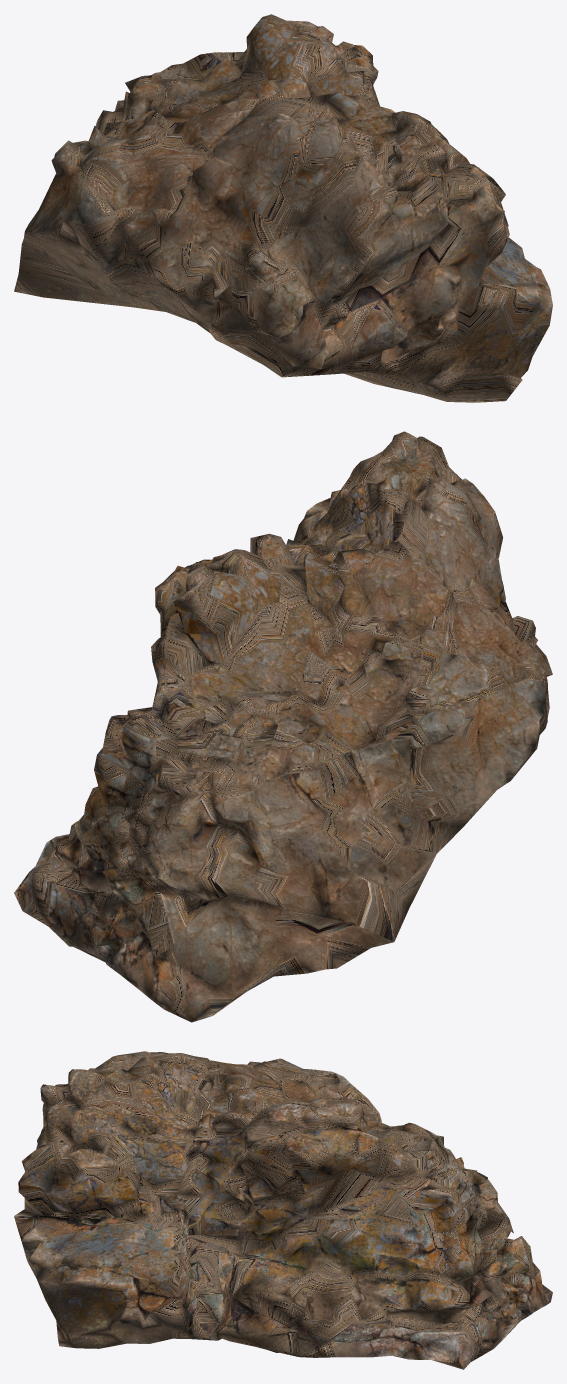
The model's file is boulder-high.glb.
The picture shows the model from 3 angles, top to bottom: view 1: azimuth 30°, elevation 25°; view 2: azimuth 150°, elevation 25°; view 3: azimuth 270°, elevation 25°; orthographic projection. The views are drawn at different scales.
Parts seen in each view (by area): view 1: boulder_01; view 2: boulder_01; view 3: boulder_01.
Boxes of the visible parts, x1,y1,x2,y2 form: boulder_01: (14,14,552,402); boulder_01: (14,431,552,1022); boulder_01: (14,1051,552,1369).
Size of the model in its own units: 1.27 by 1 by 1.83.
Materials: 1 (1 with a texture image).
